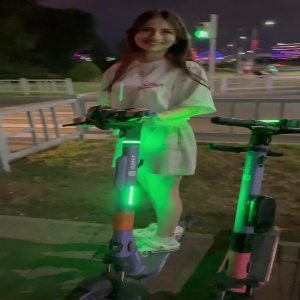human on a scooter: (57, 7, 218, 300)
